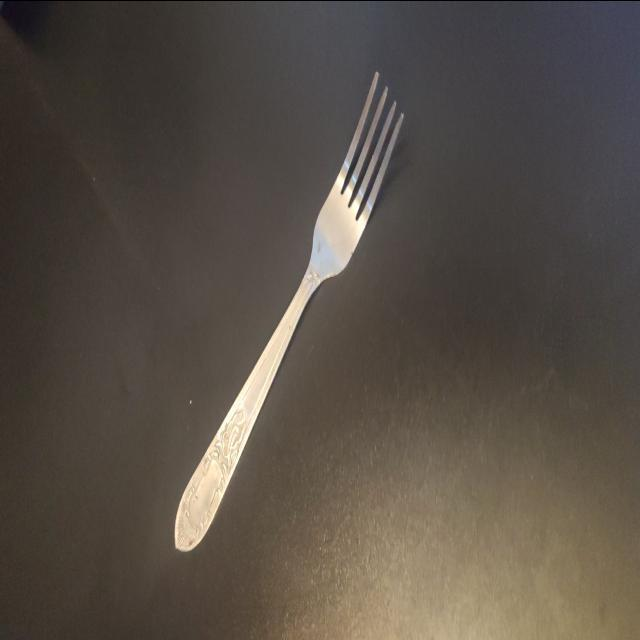plastic utensil: (175, 71, 404, 549)
